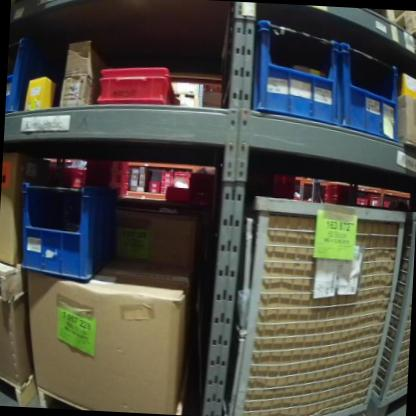pallet: (0, 371, 37, 407), (0, 260, 26, 304), (34, 389, 86, 408), (394, 10, 416, 38)
small_load_carrier: (247, 14, 344, 130), (15, 178, 118, 282), (339, 40, 407, 145), (94, 54, 184, 111), (5, 37, 66, 119), (84, 159, 132, 173), (326, 180, 358, 198), (89, 169, 131, 180), (112, 182, 133, 198), (324, 198, 353, 208), (366, 194, 383, 209), (354, 194, 369, 206), (160, 181, 173, 189), (147, 187, 160, 194), (149, 179, 160, 187), (162, 170, 174, 177), (161, 176, 174, 182), (161, 188, 172, 195)
stillage: (224, 182, 409, 416), (369, 199, 416, 415)
